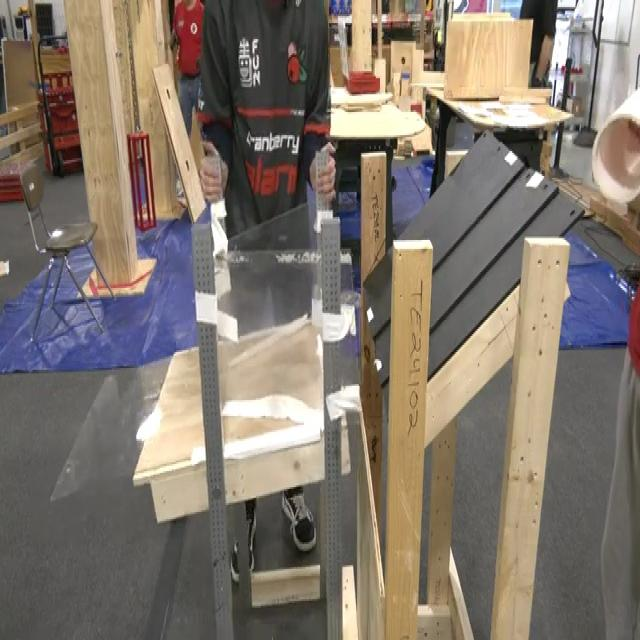Coral: (590, 86, 639, 204)
